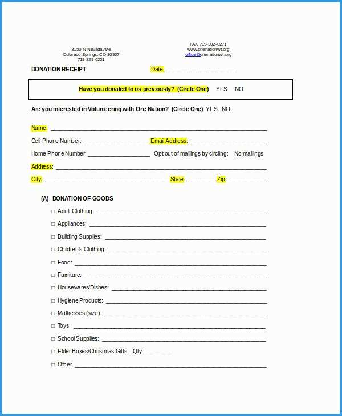checkbox: (48, 232, 56, 240), (48, 221, 57, 228), (50, 335, 57, 344), (50, 284, 57, 292), (50, 309, 57, 317), (50, 321, 57, 329), (50, 347, 57, 355), (50, 360, 57, 368), (50, 207, 57, 214), (50, 245, 56, 253), (50, 258, 56, 266), (50, 297, 56, 304), (52, 272, 56, 278)
textline: (48, 119, 270, 133), (55, 160, 268, 173), (73, 255, 269, 268), (72, 319, 267, 332), (74, 357, 268, 370), (105, 292, 269, 306), (83, 269, 270, 281), (100, 331, 268, 344), (102, 307, 268, 319), (88, 218, 268, 229), (103, 230, 268, 242), (111, 281, 270, 293), (95, 206, 267, 216), (107, 244, 269, 254), (43, 174, 170, 185), (187, 136, 270, 146), (164, 64, 235, 74), (83, 136, 150, 146), (87, 149, 152, 158), (145, 345, 176, 357), (227, 176, 268, 184), (186, 176, 217, 184)
